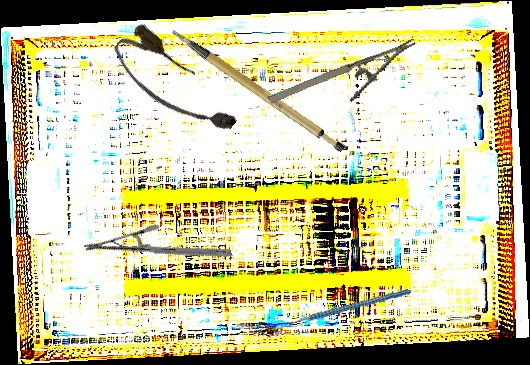Cannula: (105, 19, 244, 152)
Chopper: (275, 280, 411, 345)
Needle Holder: (83, 186, 233, 314), (267, 38, 427, 128)
Scalpel Handle: (171, 4, 348, 173)
